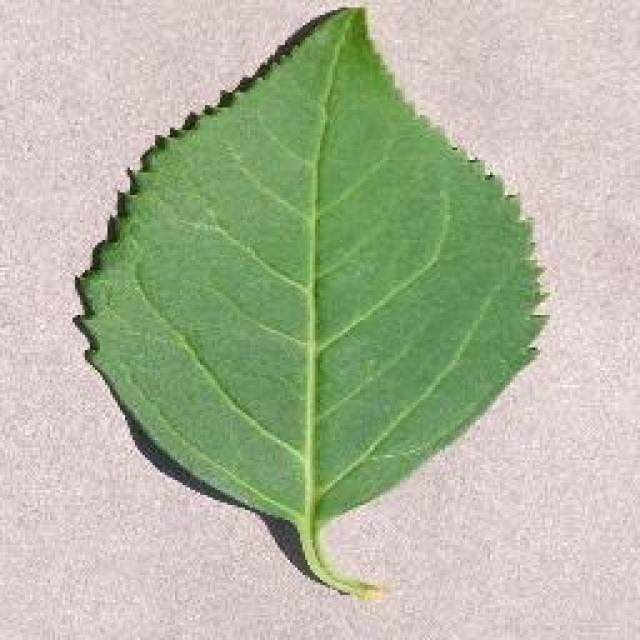Cherry___healthy: (62, 0, 558, 615)
